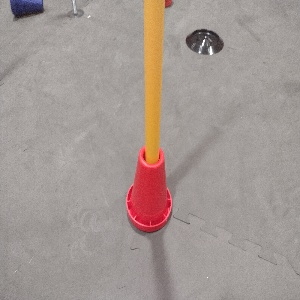Red_1: (126, 144, 172, 232)
